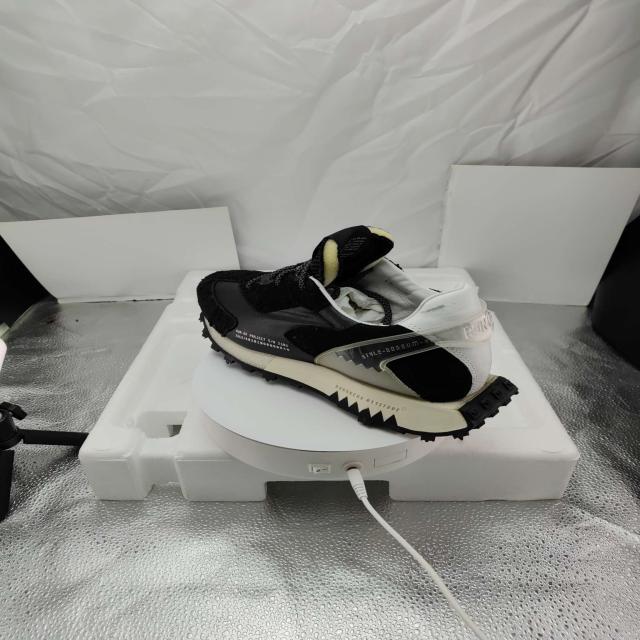shoe: (194, 224, 521, 443)
